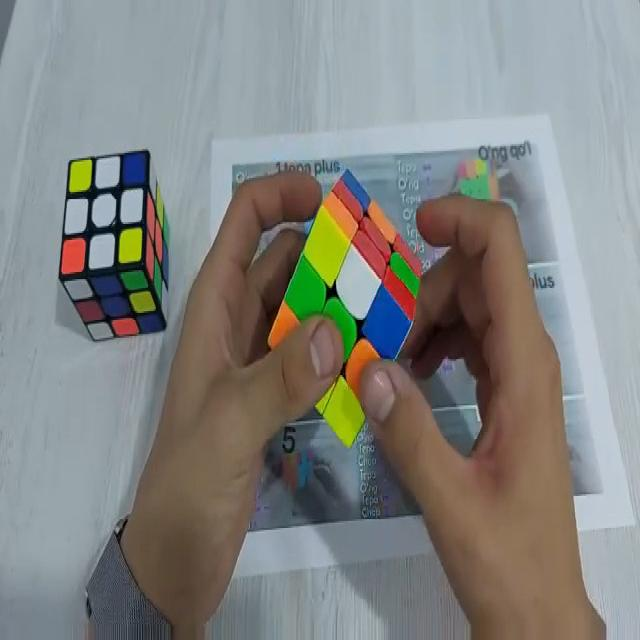Rub: (266, 170, 424, 446), (58, 145, 170, 346)
